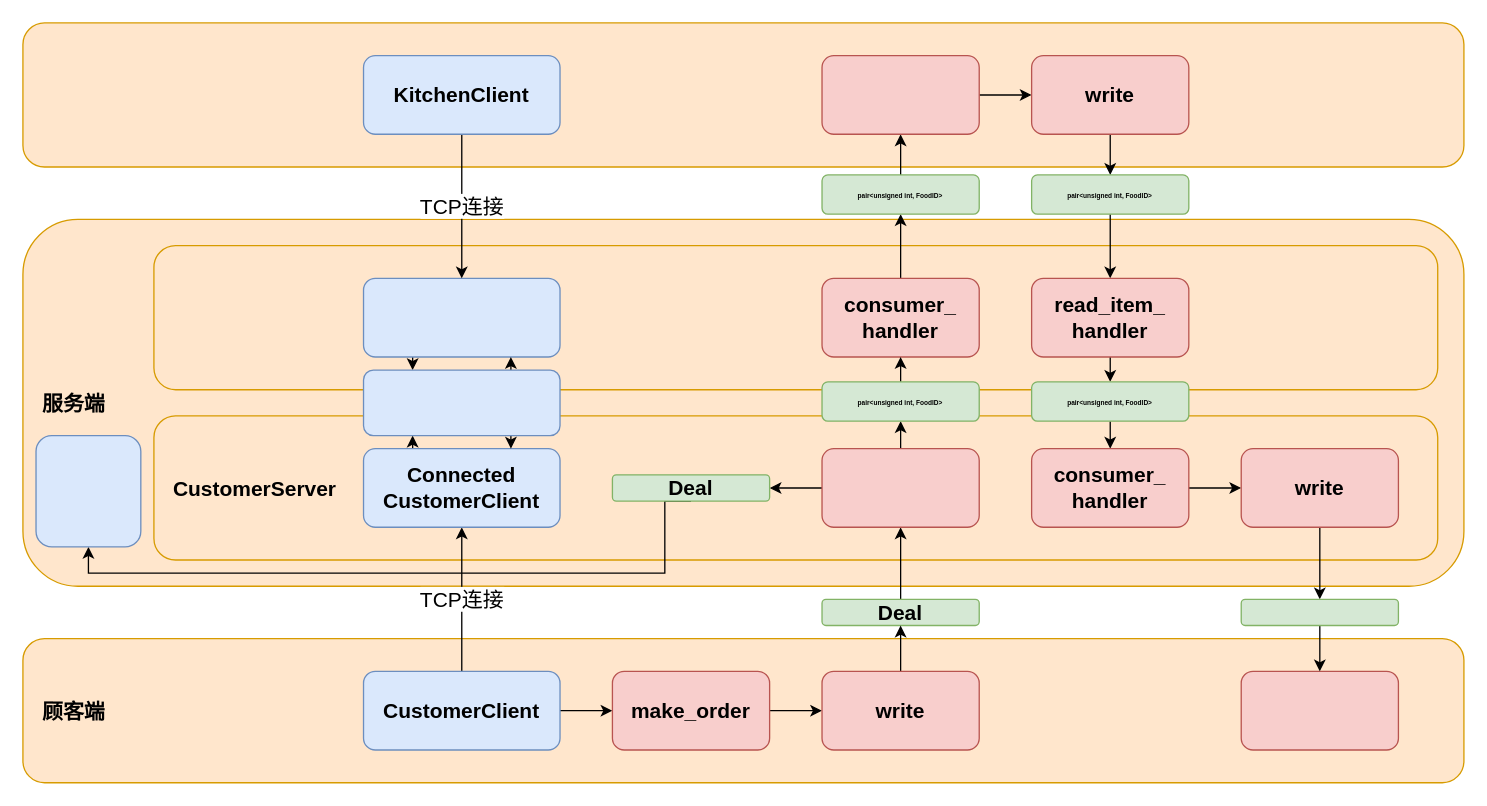
Image size: 1487x806. Some labels were removed from this diagram. Each missing label, with the box of its shape:
Connected KitchenClient: (362, 277, 560, 357)
Deal Container: (35, 434, 141, 547)
KitchenServer: (153, 244, 1438, 390)
Notification: (1240, 598, 1398, 626)
notification_ handler: (1240, 670, 1398, 750)
ProducerCustomer Queue: (362, 369, 560, 436)
read_deal_ handler: (821, 447, 979, 527)
read_handler: (821, 54, 979, 134)
厨房端: (22, 22, 1464, 167)
